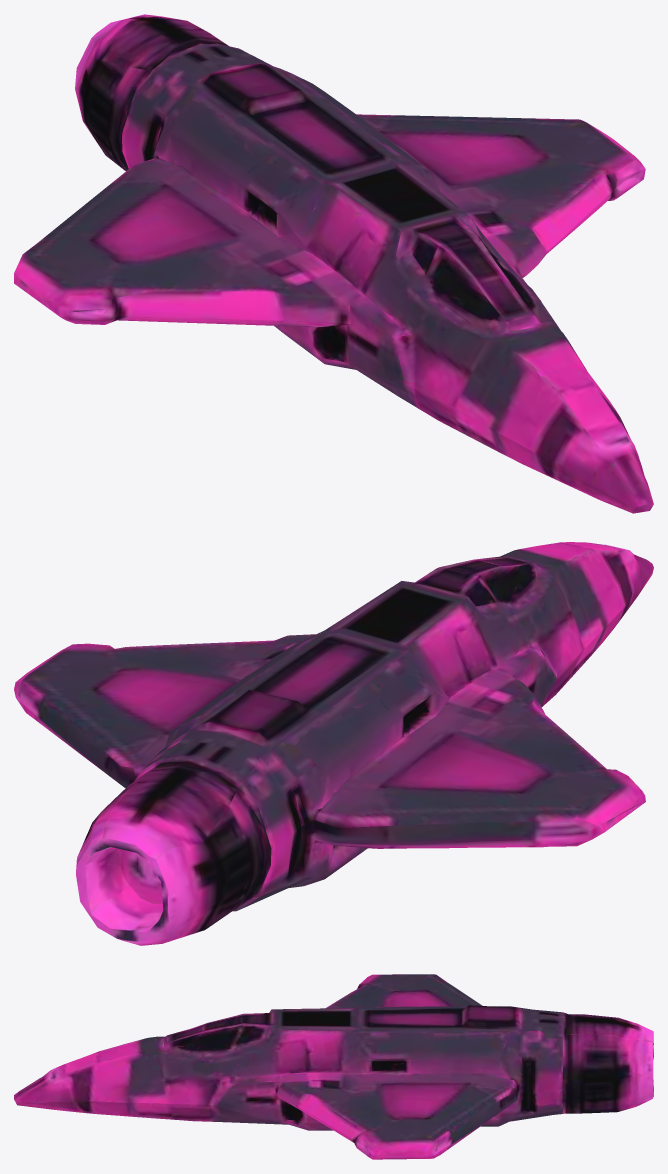
The model's file is enemy-basic-s8.glb.
3 renders of one model, top to bottom at view 1: azimuth 30°, elevation 25°; view 2: azimuth 150°, elevation 25°; view 3: azimuth 270°, elevation 25°, orthographic. The views are drawn at different scales.
Visible parts, largest first — view 1: 2eeb1933-a6ca-4bd0-a515-30dd85c03f9c_texturing.obj; view 2: 2eeb1933-a6ca-4bd0-a515-30dd85c03f9c_texturing.obj; view 3: 2eeb1933-a6ca-4bd0-a515-30dd85c03f9c_texturing.obj.
Boxes of the visible parts, x1,y1,x2,y2 form: 2eeb1933-a6ca-4bd0-a515-30dd85c03f9c_texturing.obj: (14,14,653,513); 2eeb1933-a6ca-4bd0-a515-30dd85c03f9c_texturing.obj: (14,542,653,945); 2eeb1933-a6ca-4bd0-a515-30dd85c03f9c_texturing.obj: (14,974,653,1159).
Bounding box in the file's own units: 1.3 × 0.3399 × 1.99.
1 material, 1 textured.
